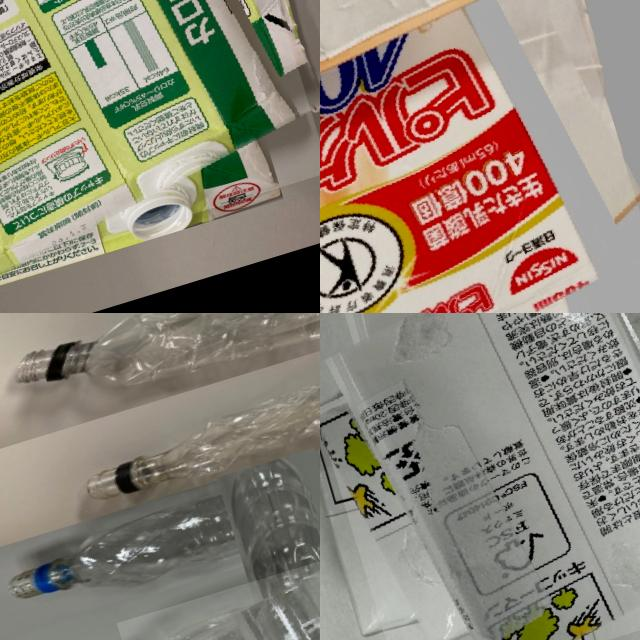Aluminium Foil: (320, 313, 640, 640), (0, 0, 320, 313), (320, 0, 640, 313)
Transparent Plastic Bottle: (0, 399, 320, 626), (59, 313, 320, 511), (34, 509, 320, 640), (0, 313, 320, 428), (116, 512, 320, 640)
